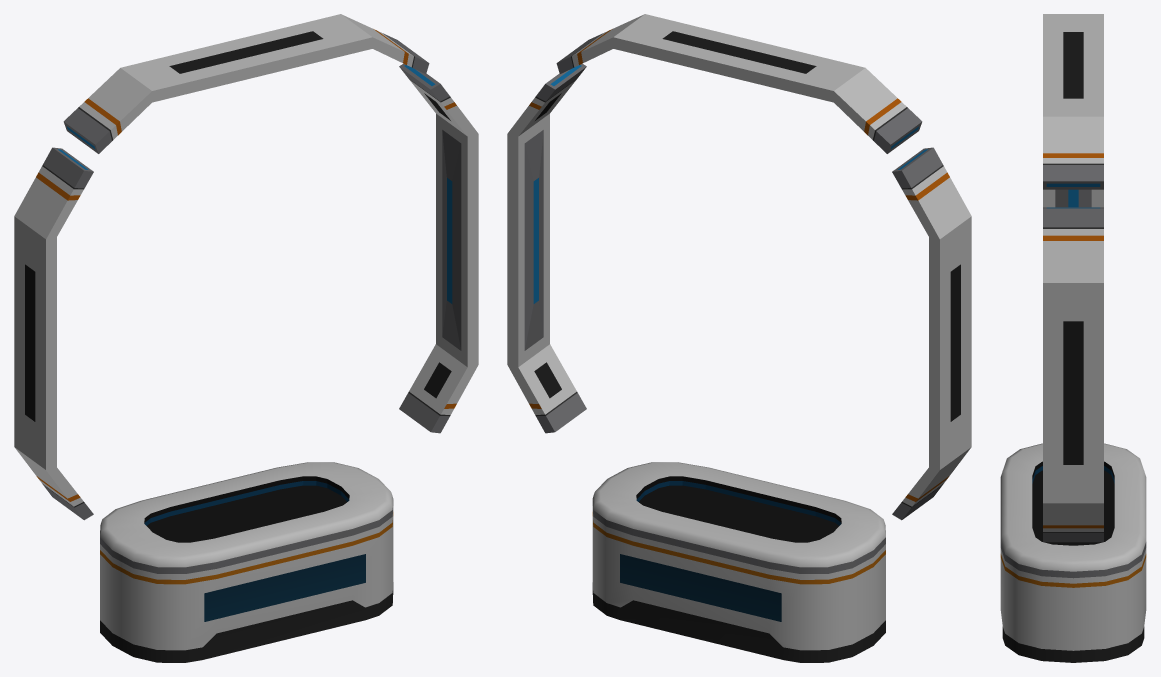
Rendered from W_O_Info_001_L1.fbx.
The picture shows the model from 3 angles, left to right: view 1: azimuth 30°, elevation 25°; view 2: azimuth 150°, elevation 25°; view 3: azimuth 270°, elevation 25°; orthographic projection. The views are drawn at different scales.
Parts seen in each view (by area): view 1: W_O_Info_001_L1; view 2: W_O_Info_001_L1; view 3: W_O_Info_001_L1.
Part boxes in pixels (left/top/right/bottom): W_O_Info_001_L1: left=14, top=14, right=478, bottom=662; W_O_Info_001_L1: left=507, top=14, right=971, bottom=662; W_O_Info_001_L1: left=1000, top=14, right=1146, bottom=662.
Size of the model in its own units: 1.96 by 0.602 by 2.43.
